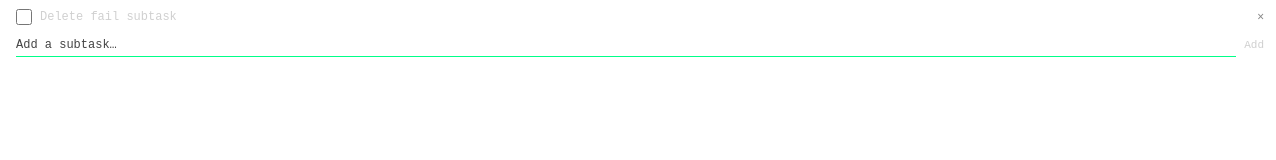
Test: SubtaskPanel › shows role="alert" error on delete failure
This screenshot has width=1276, height=160.
What coordinates should you click on to do the following:
click the button named "delete subtask \"delete fail subtask\""
I would click on:
 (1261, 17)
Its box is [1257, 9, 1264, 25].
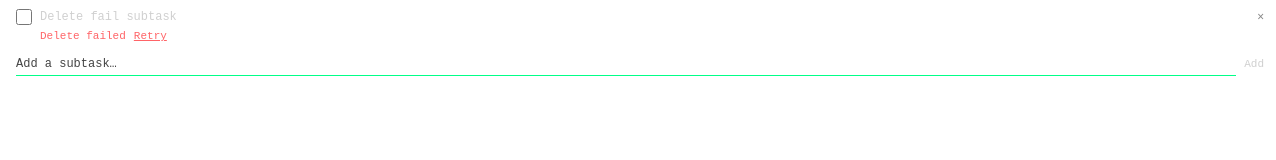
Result: the message "Delete failed Retry" is shown at [40, 28, 167, 44]
Result: the message shows "Delete failed" at [40, 30, 126, 42]
Result: the button with aria-label "retry deleting subtask" is shown at [134, 28, 167, 44]
